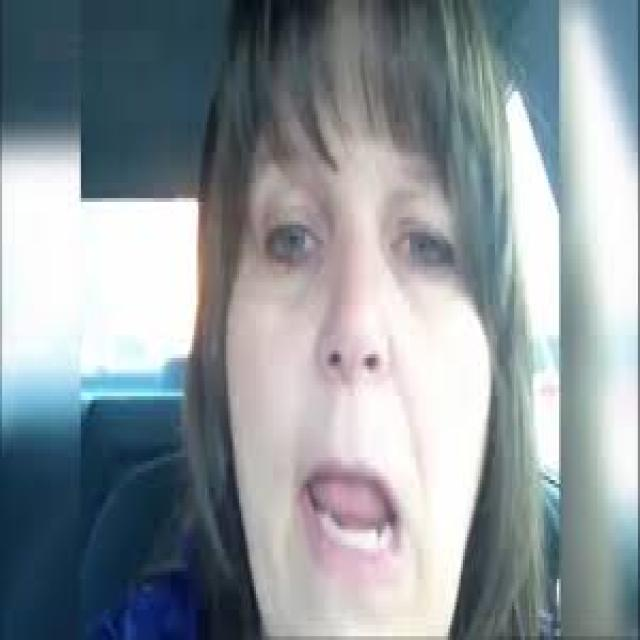stroke_face: (220, 2, 494, 640)
